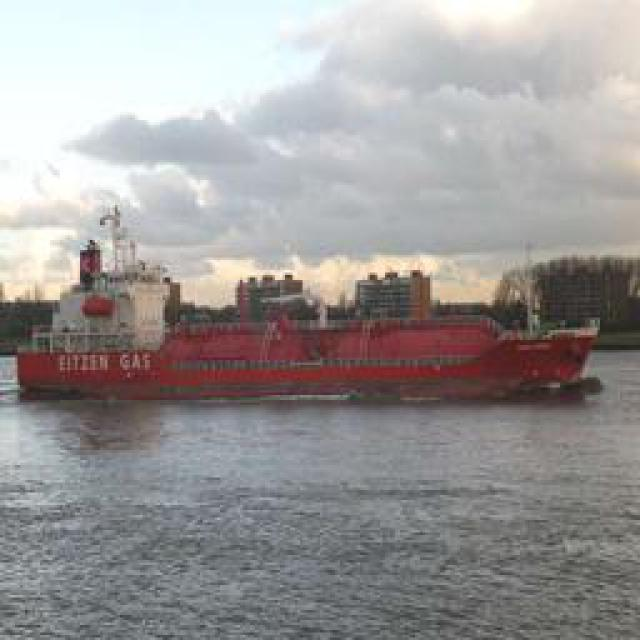Ship: (5, 261, 630, 411)
